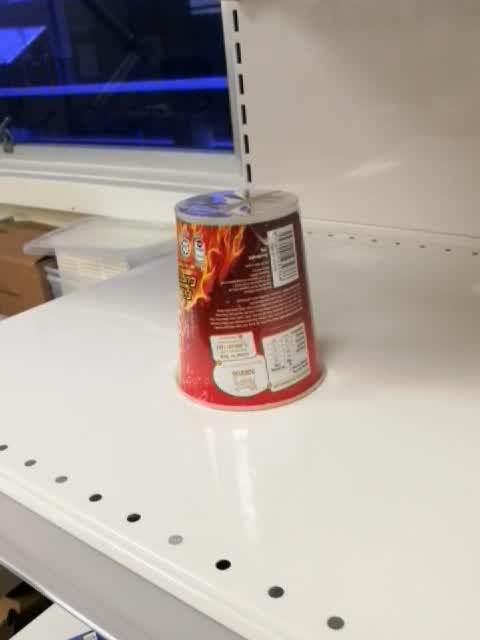maggi: (173, 187, 327, 413)
